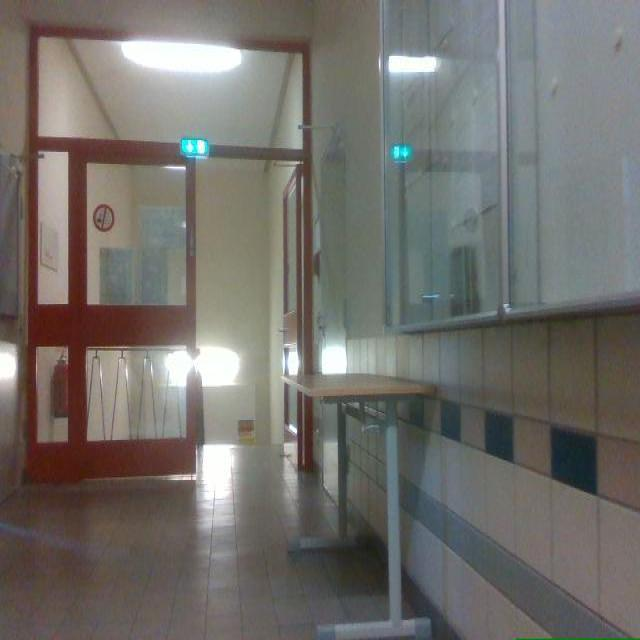objects: (0, 151, 20, 317)
